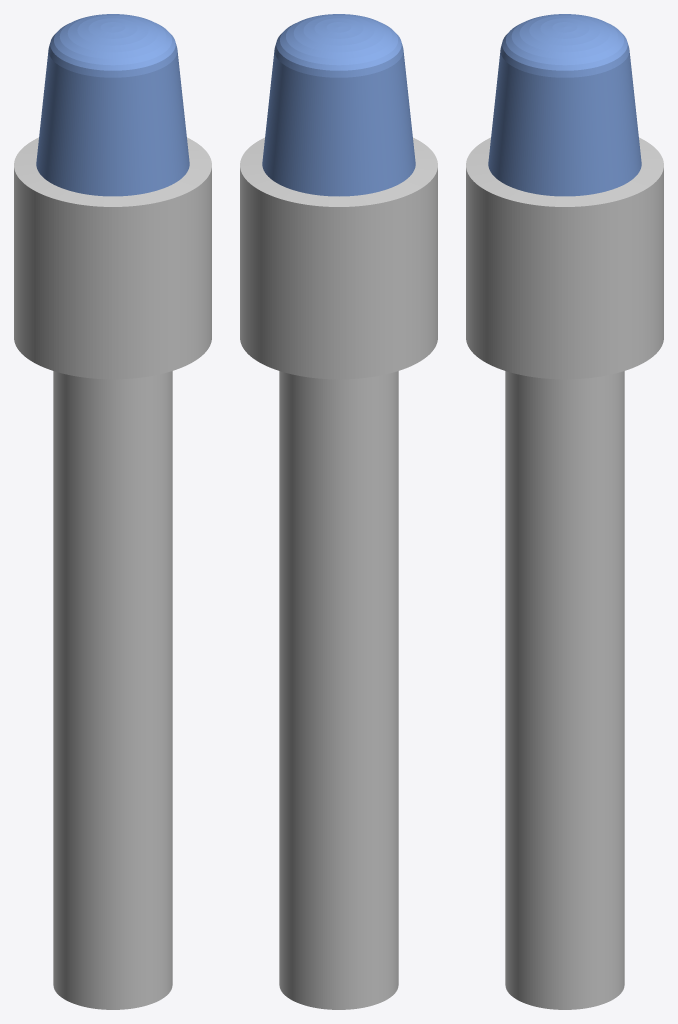
File: SM_OutdoorLight.fbx
The picture shows the model from 3 angles, left to right: view 1: azimuth 30°, elevation 25°; view 2: azimuth 150°, elevation 25°; view 3: azimuth 270°, elevation 25°; orthographic projection.
Parts seen in each view (by area): view 1: Cylinder; view 2: Cylinder; view 3: Cylinder.
Part boxes in pixels (x1,y1,x2,y2): Cylinder: [14, 14, 211, 1009]; Cylinder: [240, 14, 437, 1009]; Cylinder: [466, 14, 663, 1009].
Size of the model in its own units: 16.63 by 88.77 by 16.63.
